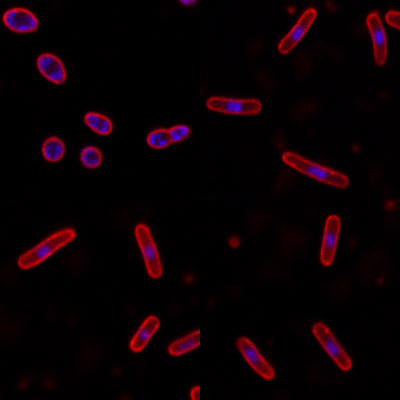Mecillinam: (143, 124, 191, 150), (35, 52, 67, 85), (1, 7, 40, 34), (83, 111, 113, 135), (39, 136, 66, 162), (79, 146, 102, 168)
Nalidixate: (280, 150, 349, 188), (16, 227, 76, 270), (309, 321, 353, 371), (275, 7, 320, 55), (236, 335, 275, 381), (132, 224, 163, 278), (317, 214, 342, 267), (365, 12, 389, 67), (204, 94, 262, 116), (129, 314, 160, 353)
Vesicle: (383, 197, 398, 211), (227, 234, 241, 248), (182, 272, 194, 284), (286, 4, 297, 15)
